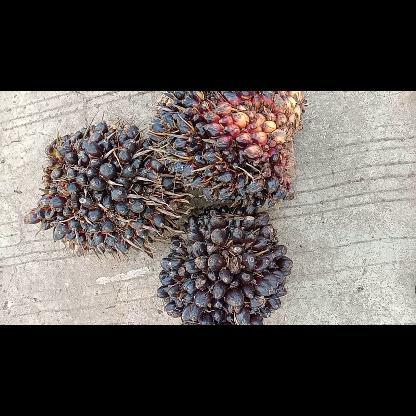TBS mentah: (21, 117, 193, 255), (144, 90, 310, 209), (153, 204, 299, 324)
